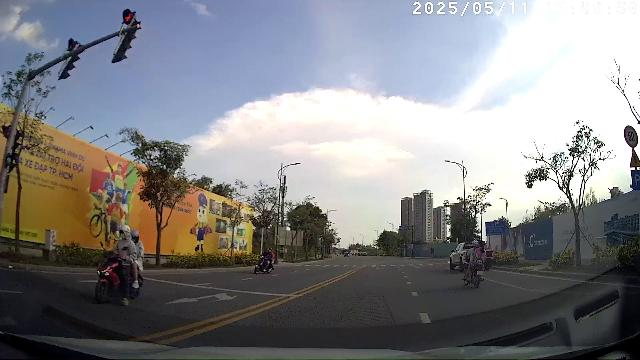127-toc-do-toi-da-50: (624, 125, 638, 147)
